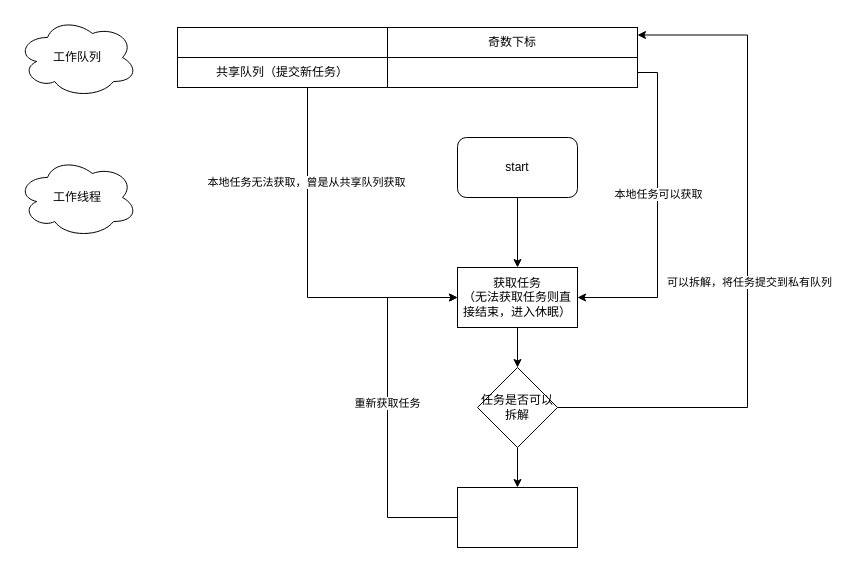
Some shapes in this 849 by 565 pixel diagram are drawn without their labels. Each missing label, with the centre of its shape:
偶数下标: point 282,42
执行任务: point 517,517
私有队列（线程自身因拆解提交新任务）: point 512,72
